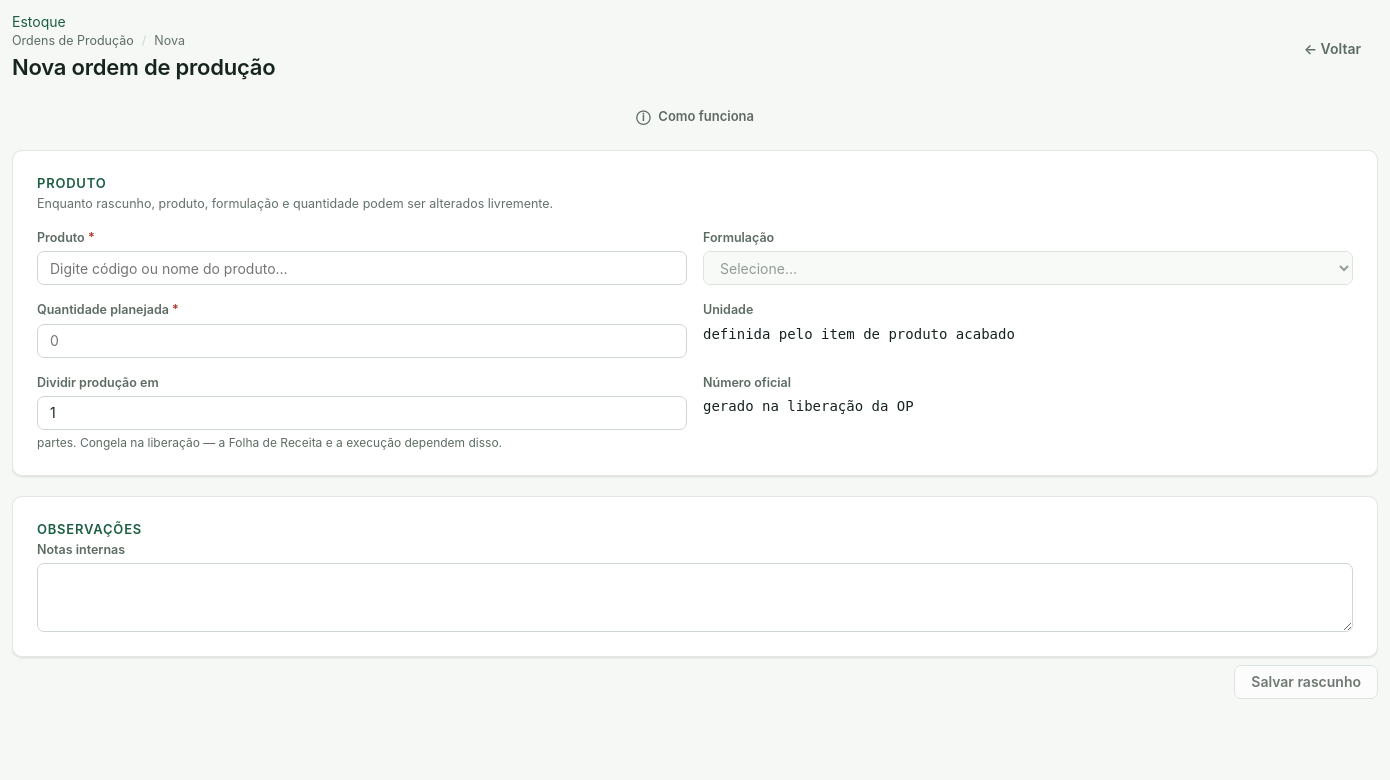
Test: OP nova — guarda de alterações não salvas › salvar limpa a pendência antes de trocar de endereço
Check: the heading "Nova ordem de produção" is shown, box [12,54,275,82]
Step 1. Click the dropdown with id "op-product" → (362, 268), box [37,251,687,285]
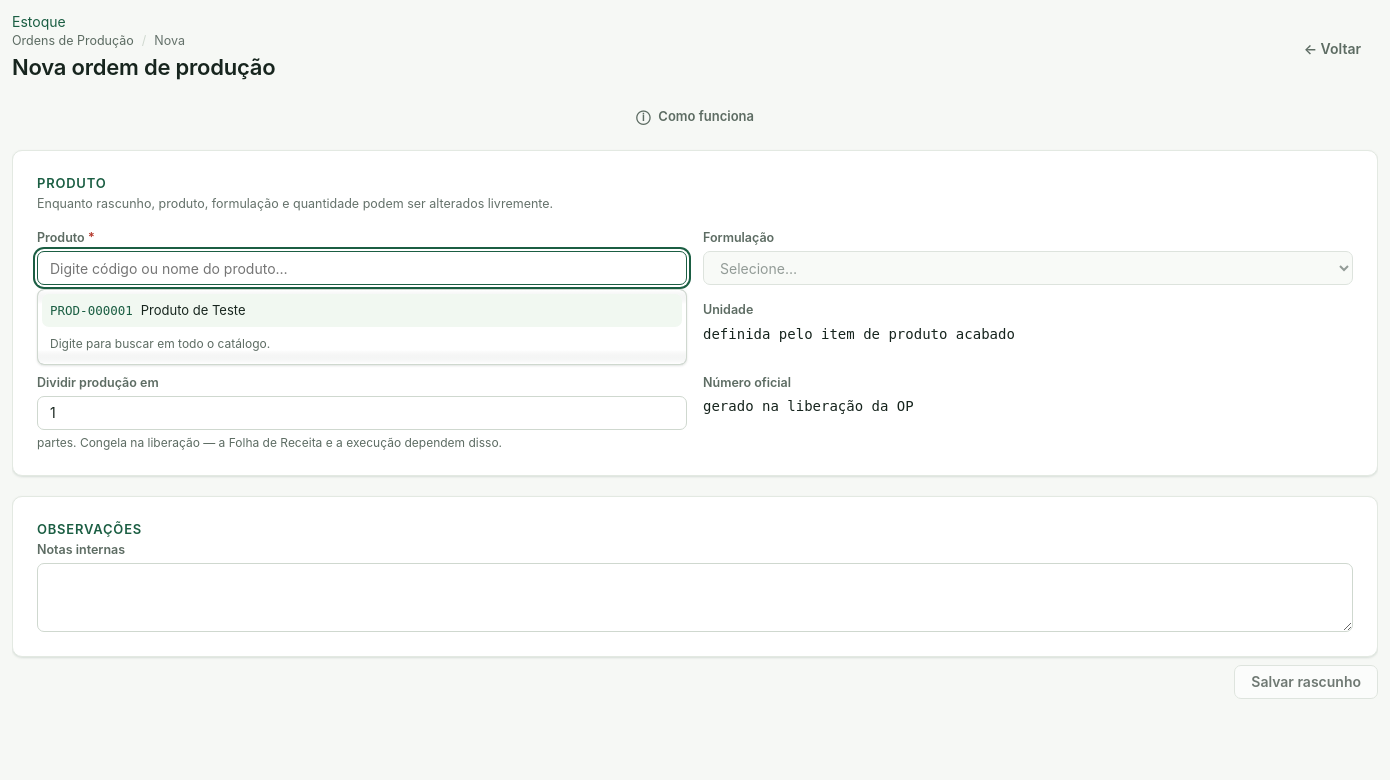
Step 2. Click the text "PROD-000001" → (91, 311), box [50,303,133,319]
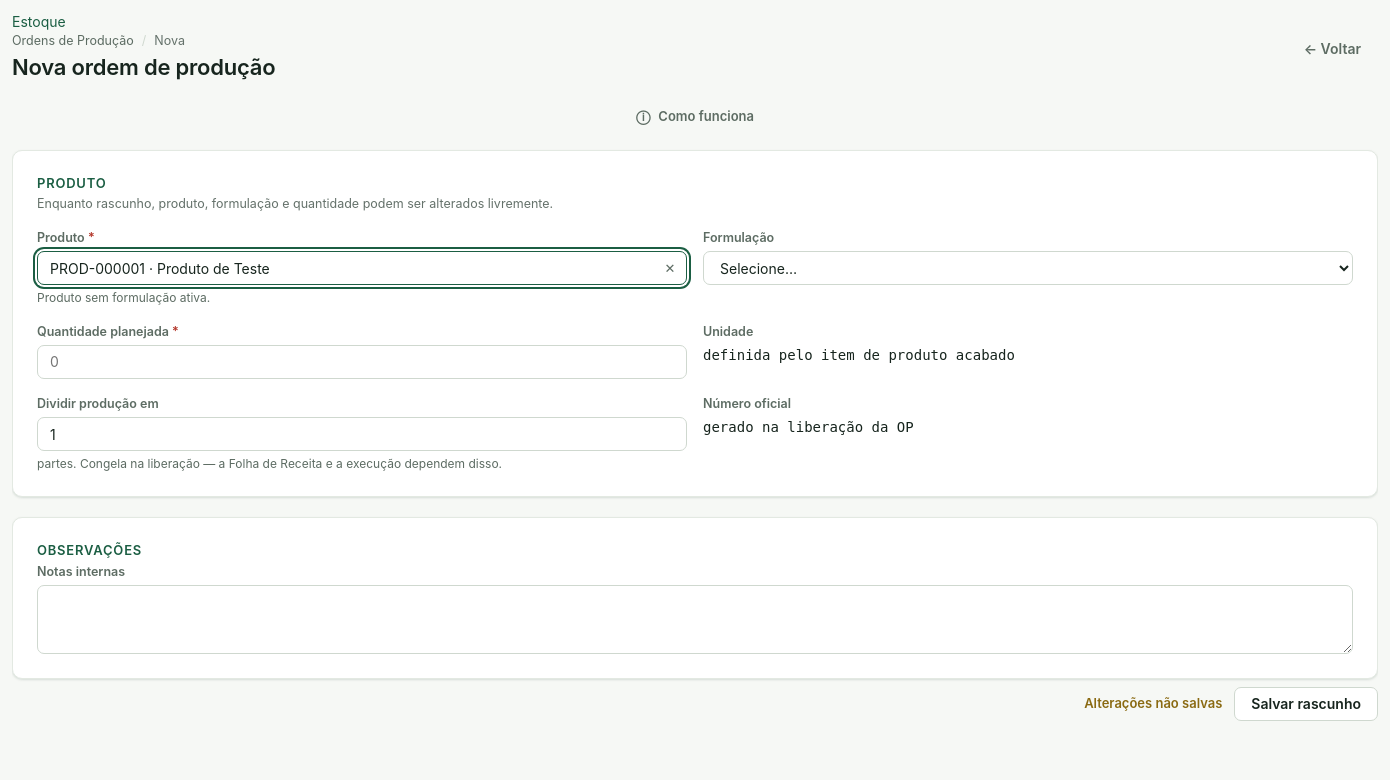
Step 3. Type "3000" into the field with id "op-quantity" → (362, 362), box [37,345,687,379]
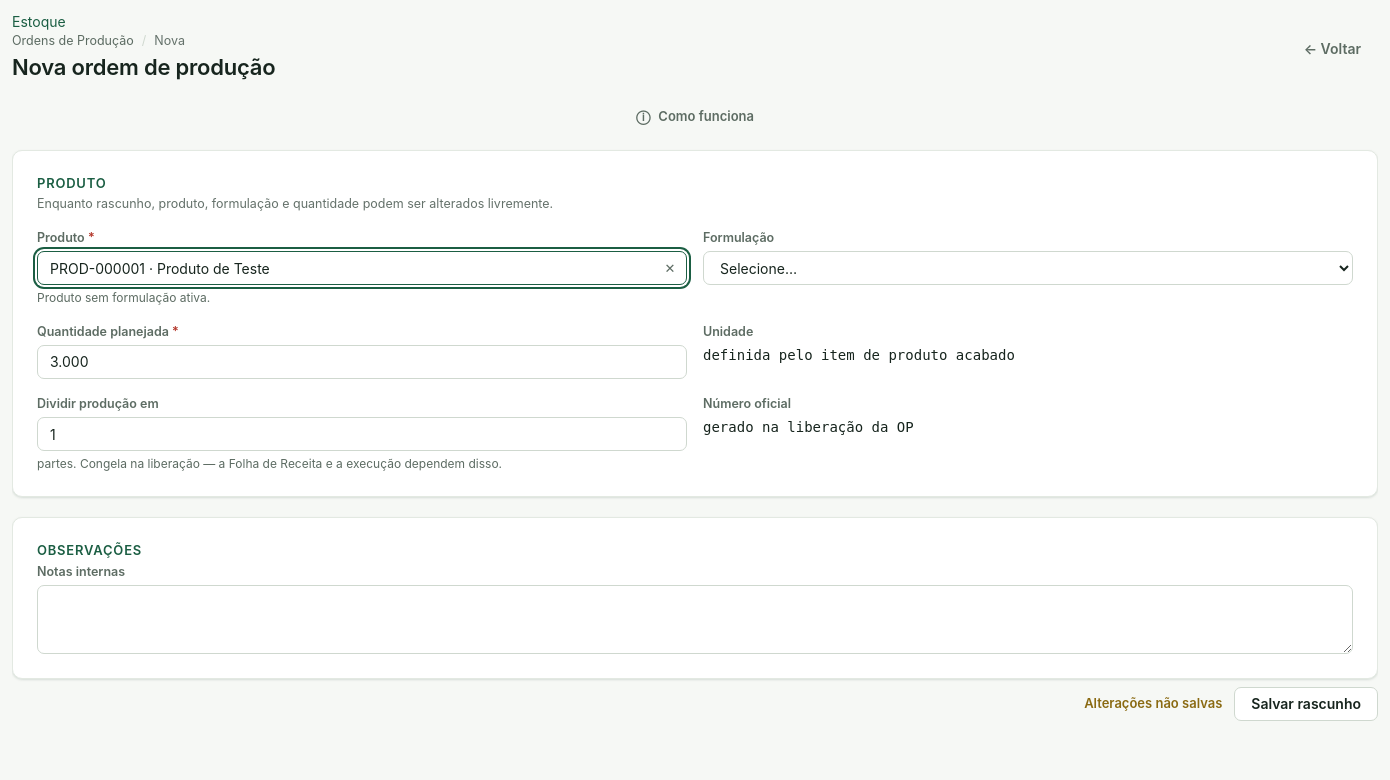
Step 4. Click the button "Salvar rascunho" → (1306, 704), box [1234,687,1378,721]
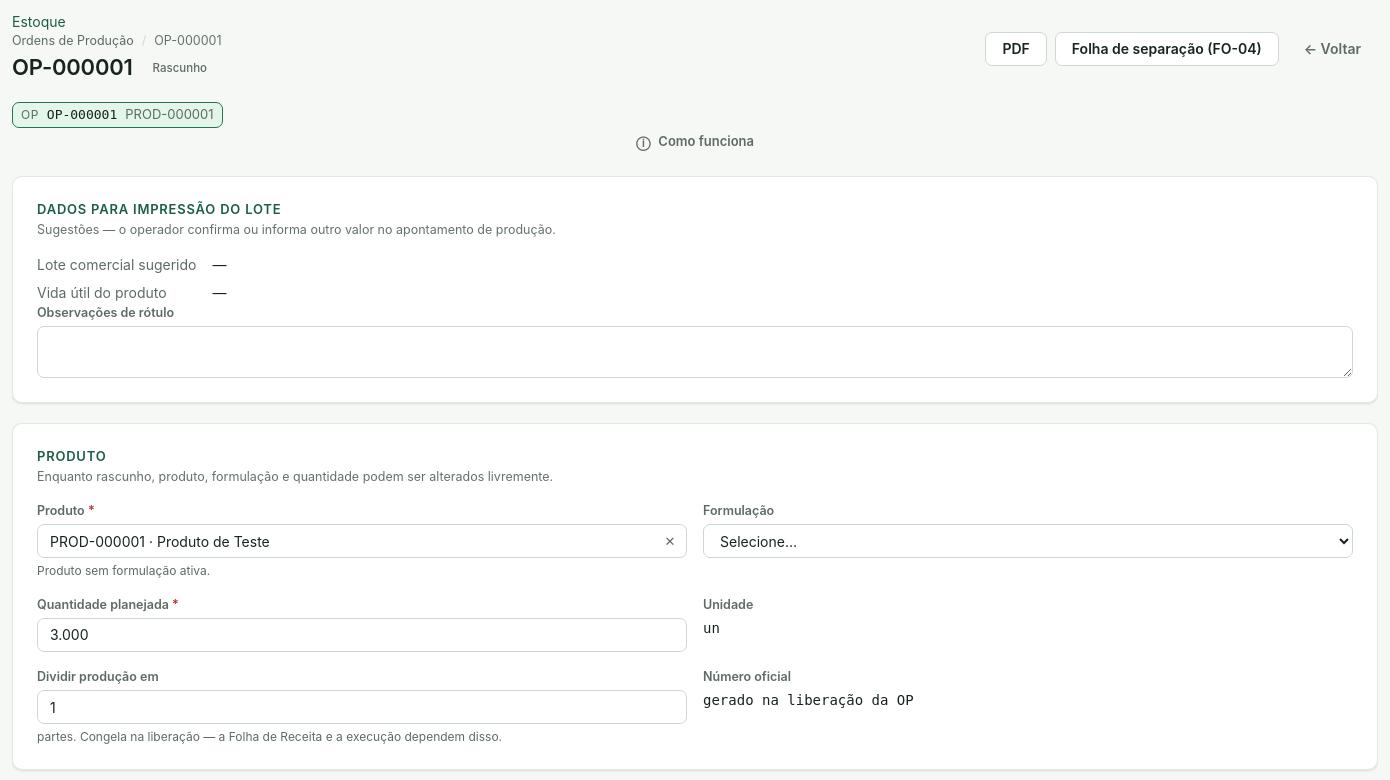
Check: the heading "OP-000001" is shown, box [12,54,133,82]
